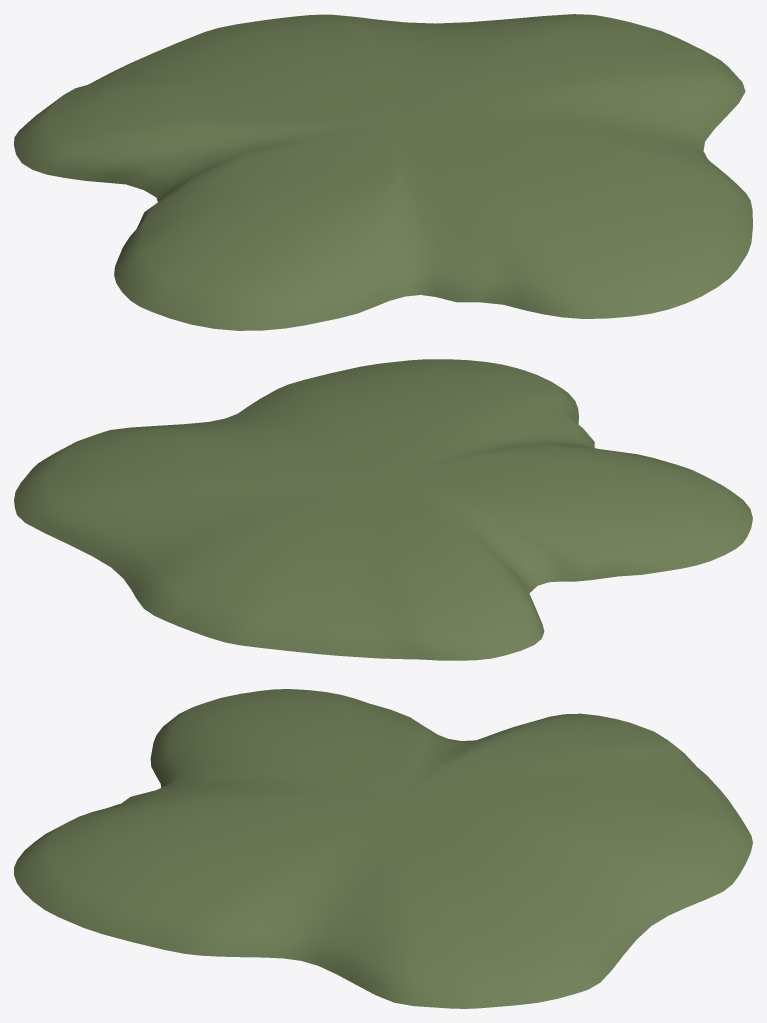
Rendered from Slime1.fbx.
3 views of the same model, one above another, from view 1: azimuth 30°, elevation 25°; view 2: azimuth 150°, elevation 25°; view 3: azimuth 270°, elevation 25° (orthographic). The views are drawn at different scales.
Parts seen in each view (by area): view 1: slime1; view 2: slime1; view 3: slime1.
Part boxes in pixels (x1=…): slime1: x1=14, y1=14, x2=752, y2=330; slime1: x1=14, y1=359, x2=752, y2=660; slime1: x1=14, y1=689, x2=752, y2=1008.
Bounding box in the file's own units: 1.87 × 0.1259 × 1.86.
